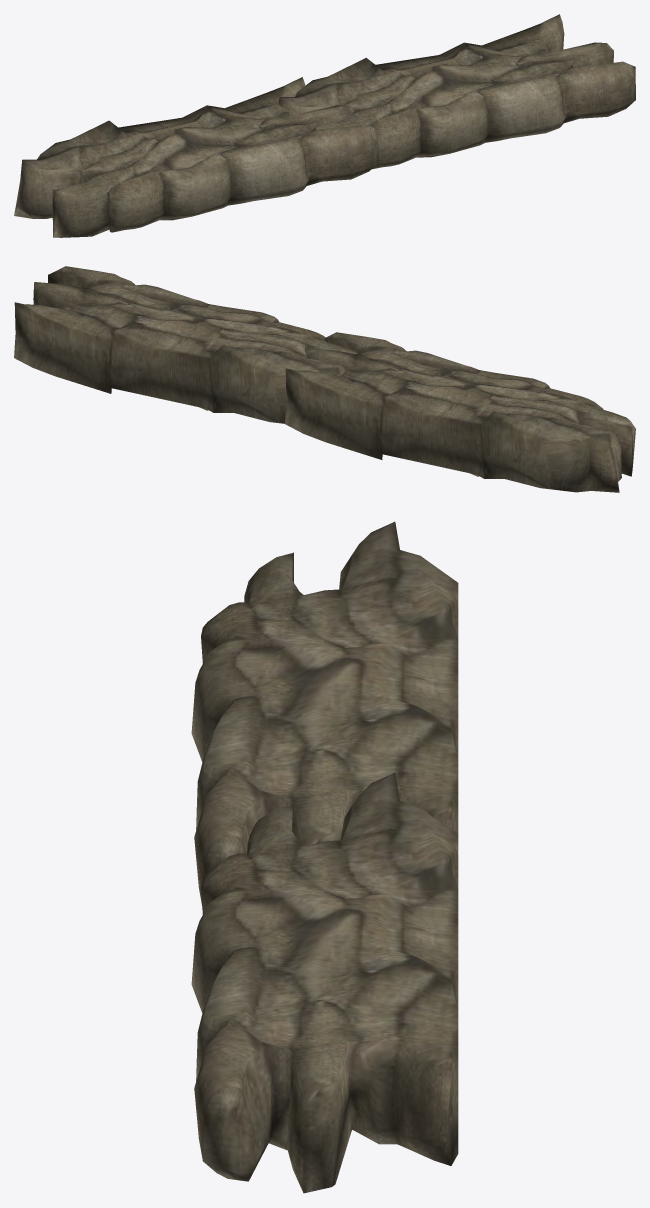
The model's file is military_sandbag_longsection.glb.
3 views of the same model, one above another, from view 1: azimuth 30°, elevation 25°; view 2: azimuth 150°, elevation 25°; view 3: azimuth 270°, elevation 25° (orthographic). The views are drawn at different scales.
Bounding box in the file's own units: 169 × 22.14 × 33.47.
Materials: 1 (1 with a texture image).
